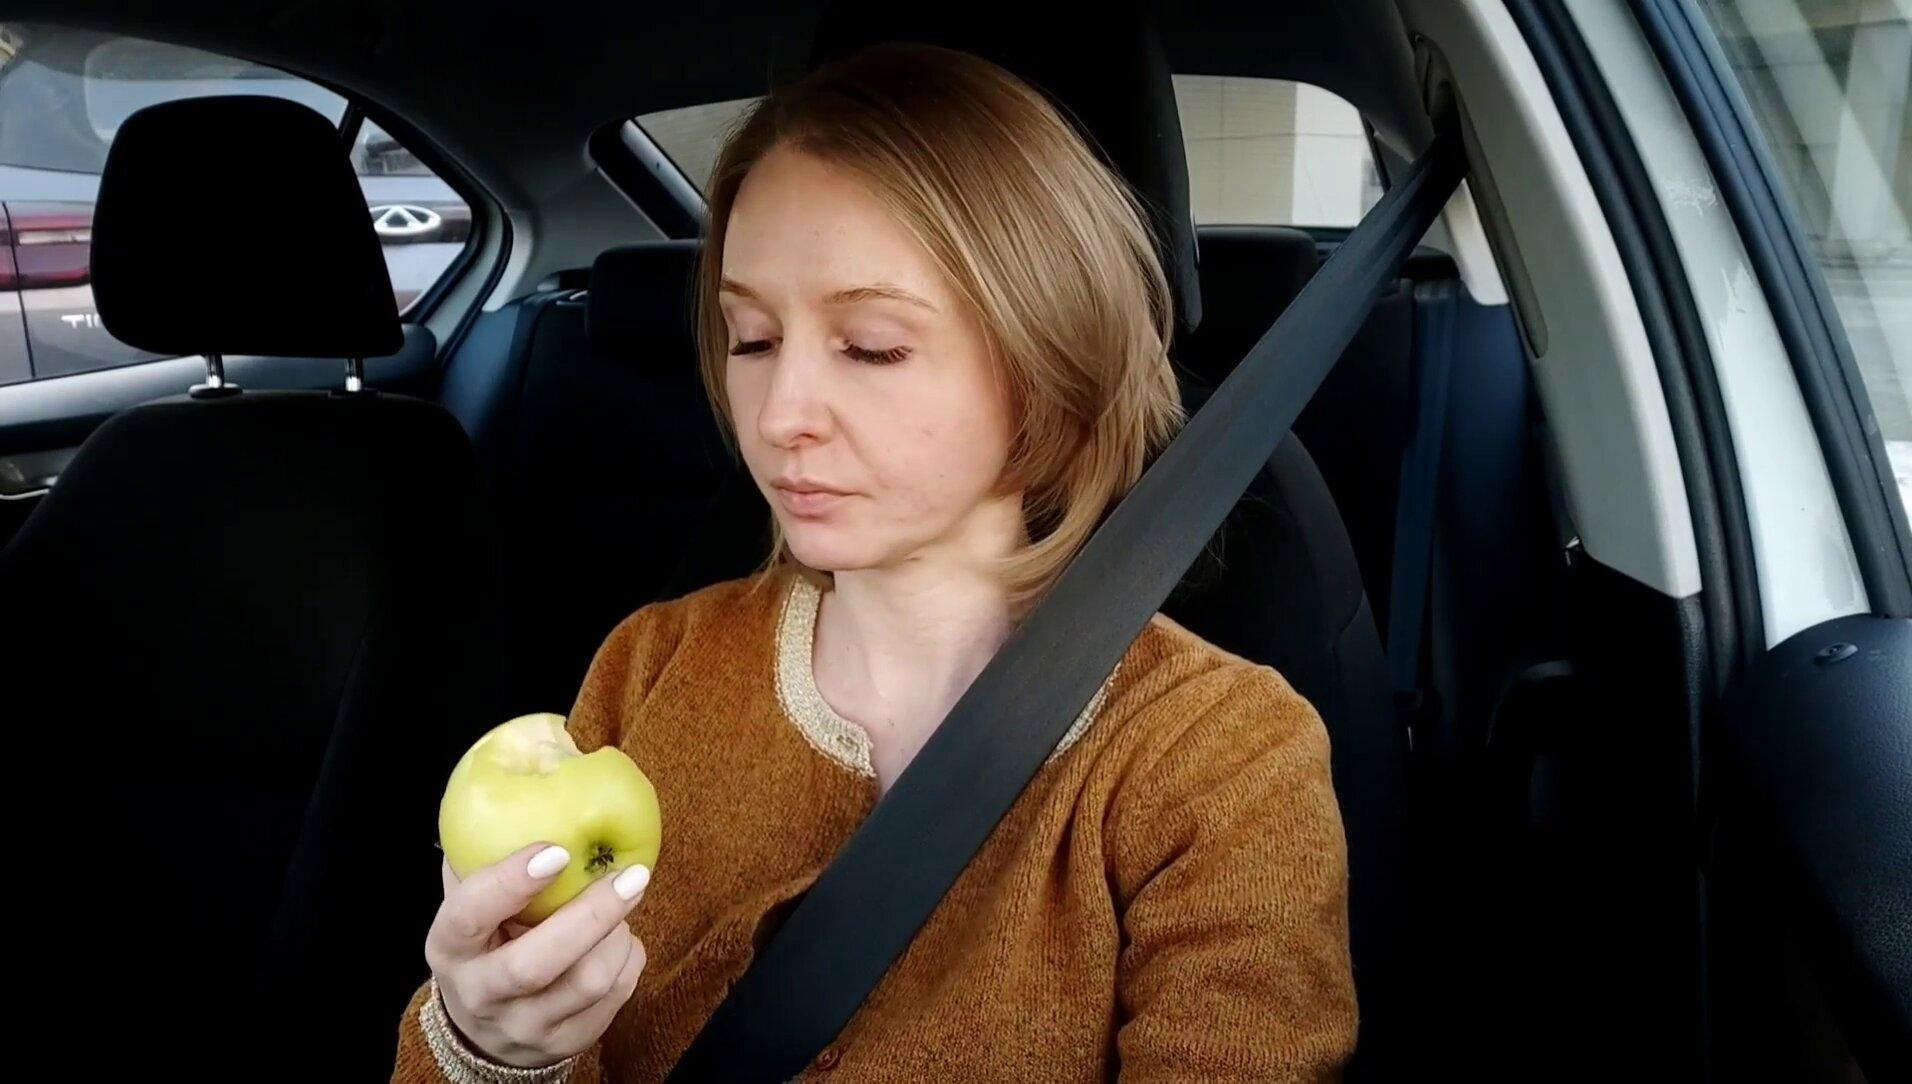Eating: (436, 700, 668, 932)
